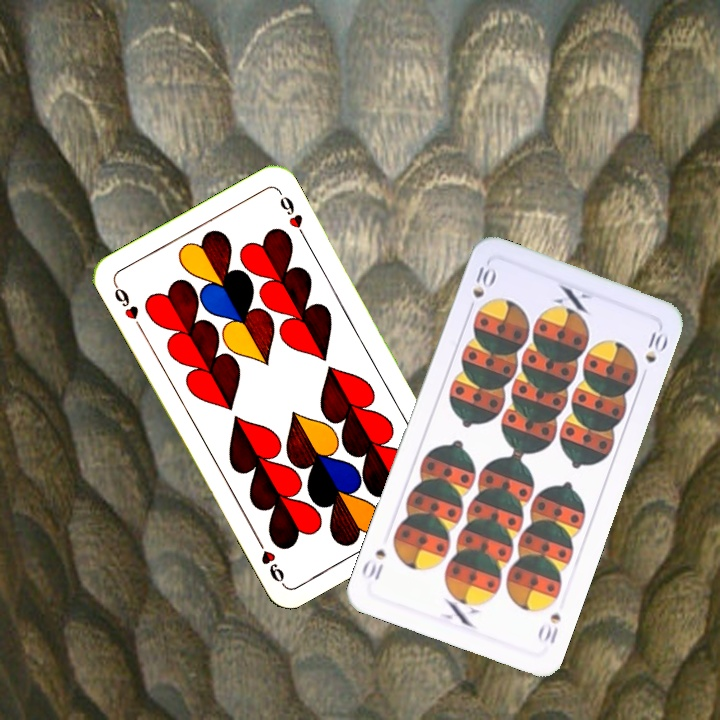H9: (109, 279, 145, 333)
S10: (464, 259, 498, 316), (533, 609, 564, 647)
